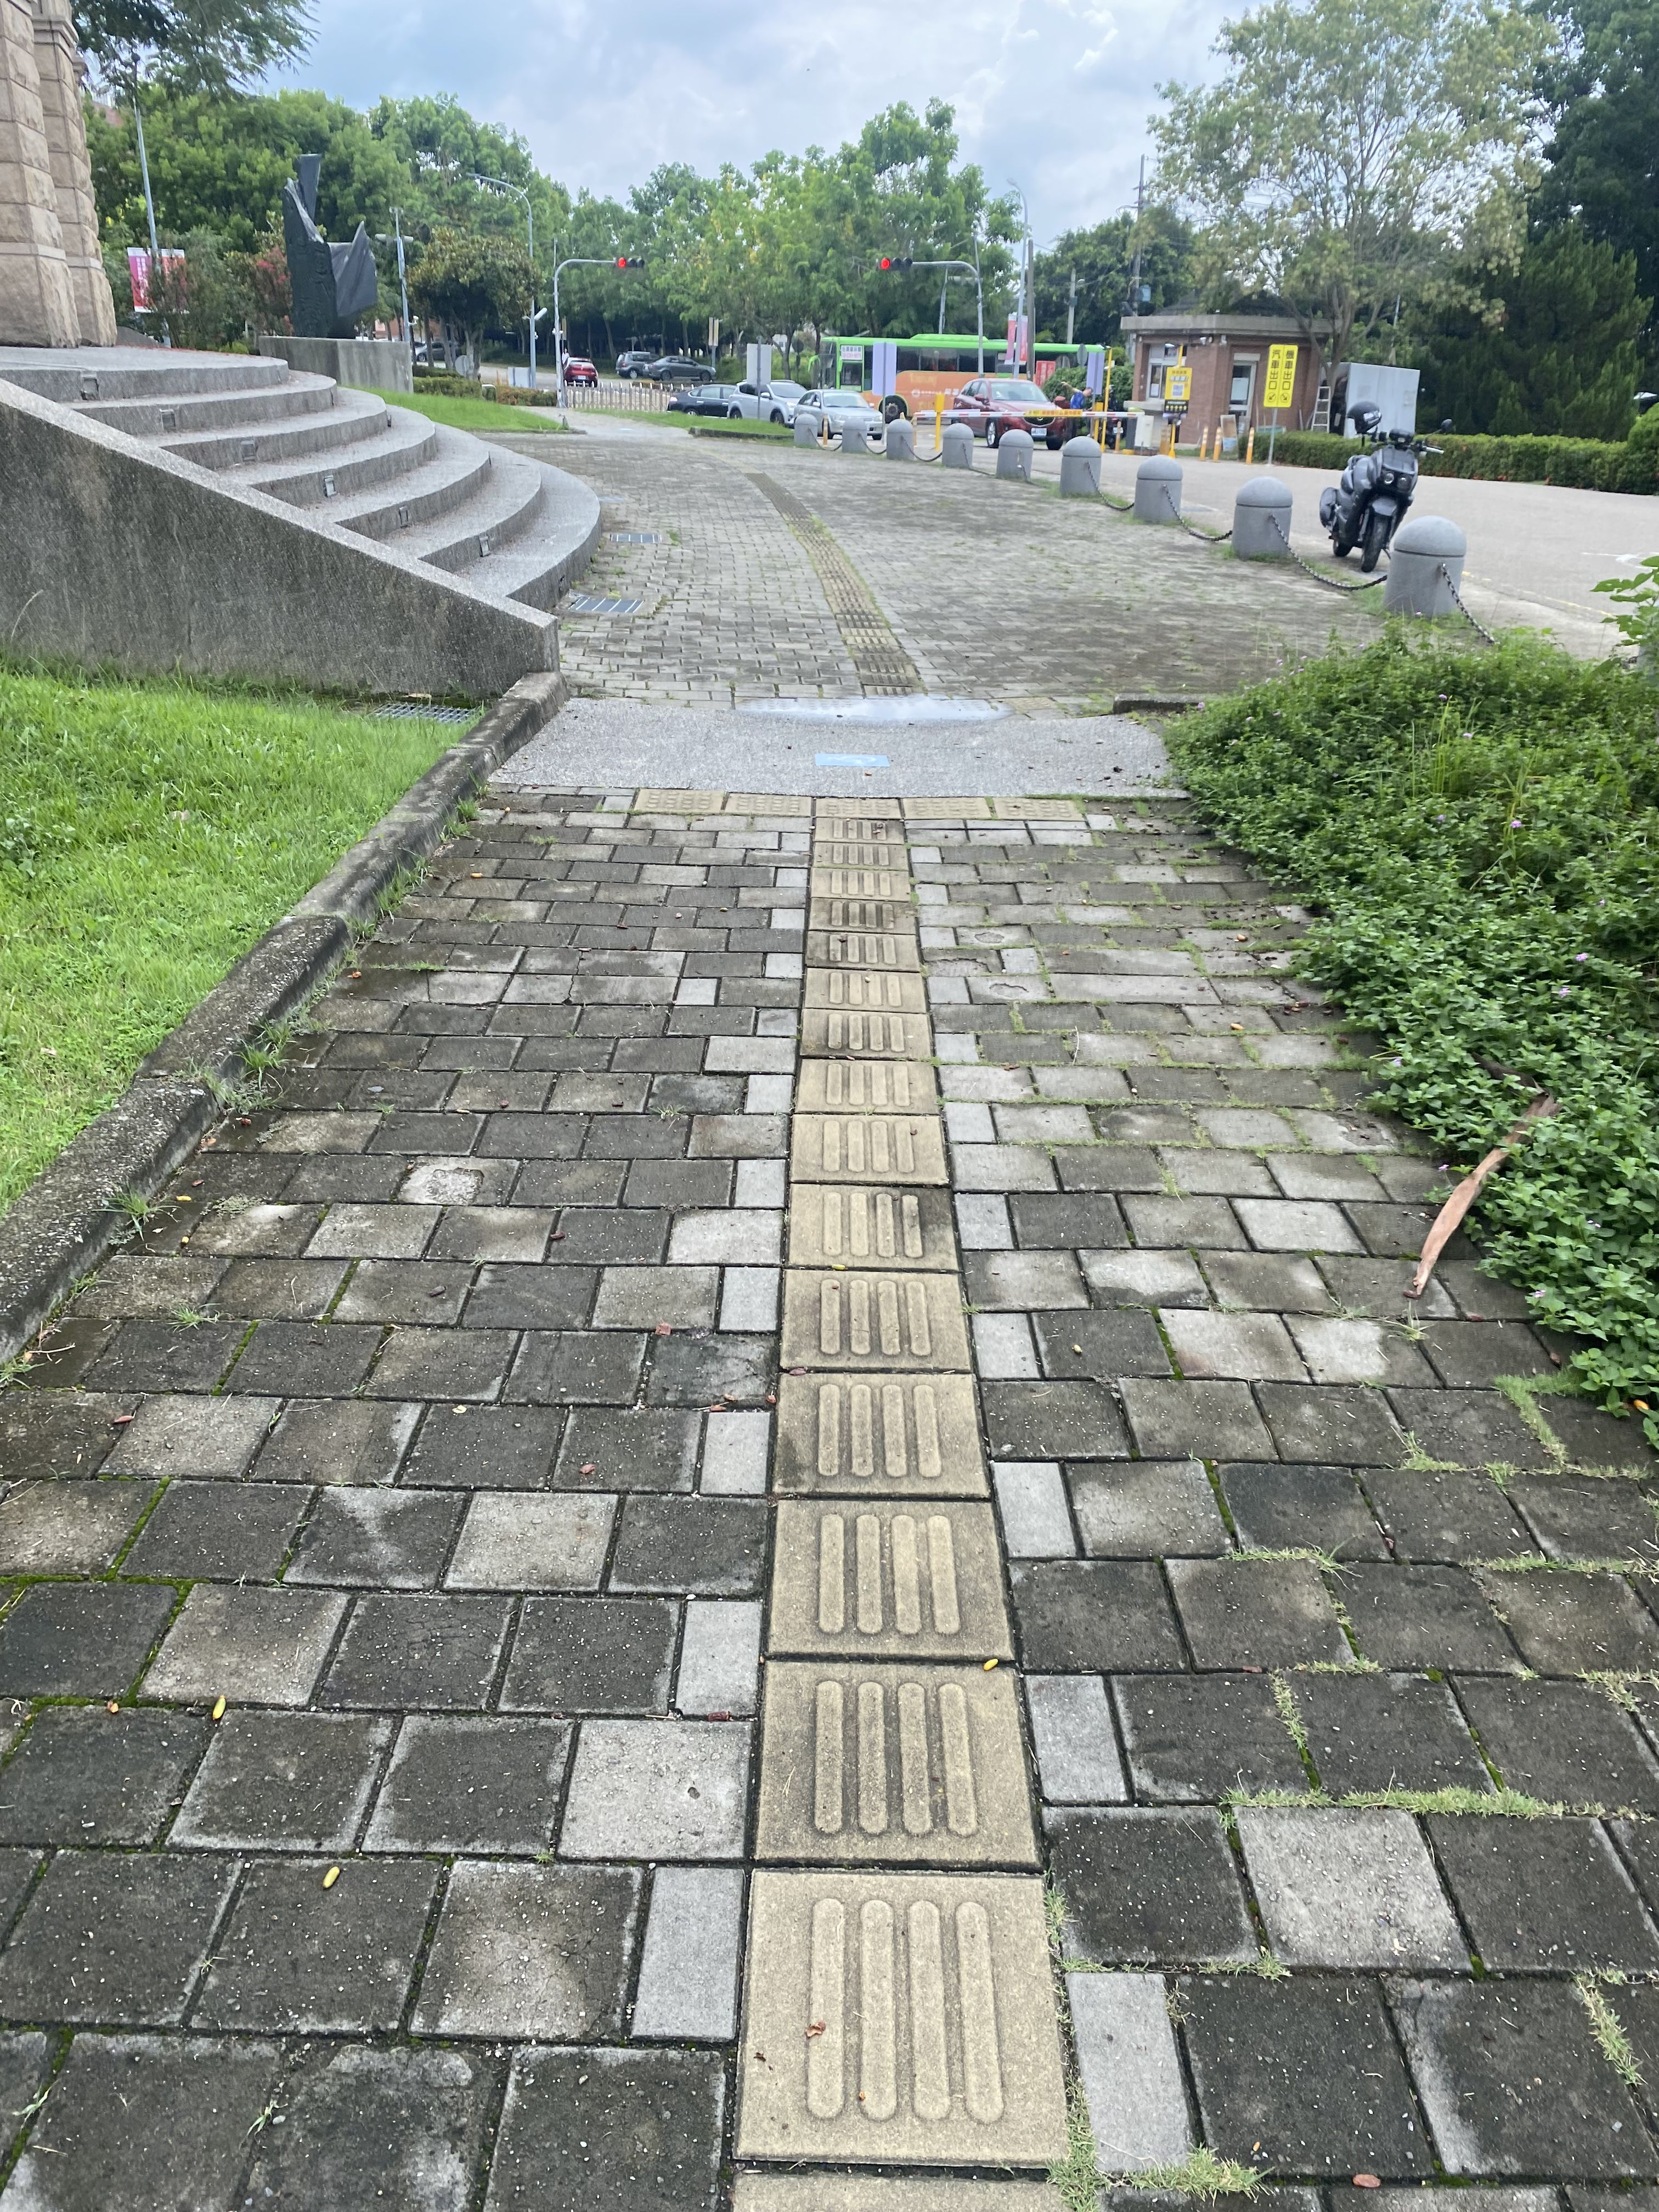0: (0, 752, 1659, 2212)
sidewalk: (488, 402, 1410, 963)
